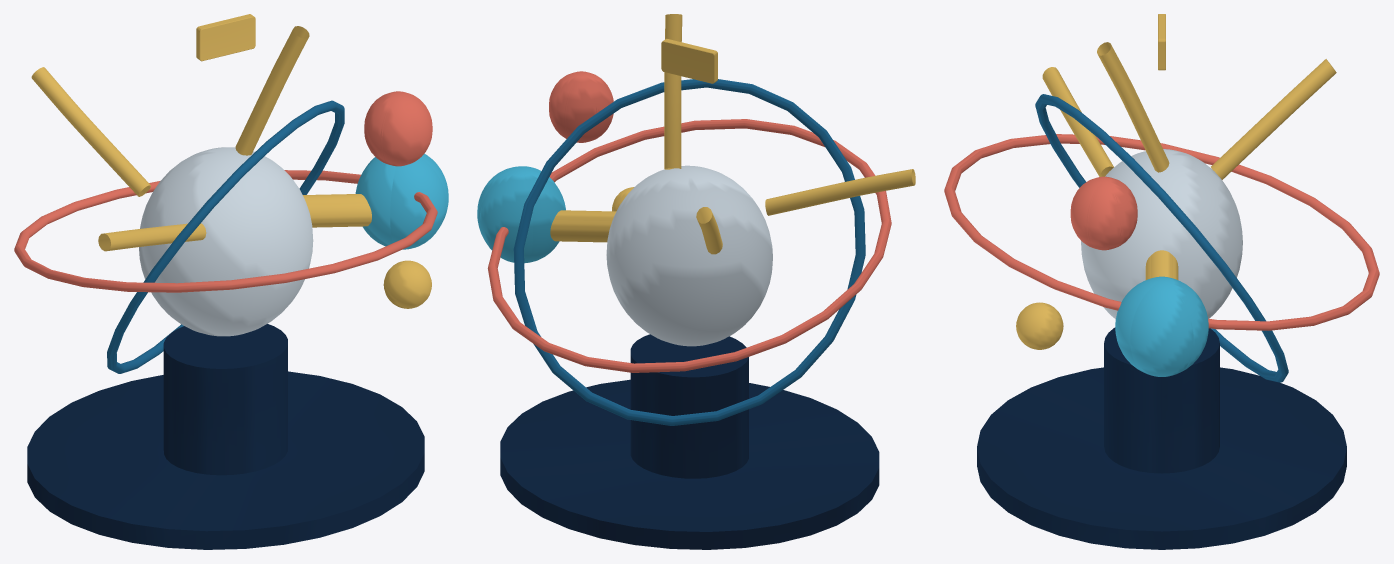
The model's file is 0509_生活中的化学图鉴_氧气.glb.
The picture shows the model from 3 angles, left to right: view 1: azimuth 30°, elevation 25°; view 2: azimuth 150°, elevation 25°; view 3: azimuth 270°, elevation 25°; orthographic projection. The views are drawn at different scales.
Parts seen in each view (by area): view 1: card_0509; view 2: card_0509; view 3: card_0509.
Part boxes in pixels (box(x1,y1,x2,y2)): card_0509: box(14, 14, 448, 549); card_0509: box(477, 14, 915, 549); card_0509: box(944, 14, 1379, 549).
Size of the model in its own units: 0.9233 by 1 by 0.8913.
